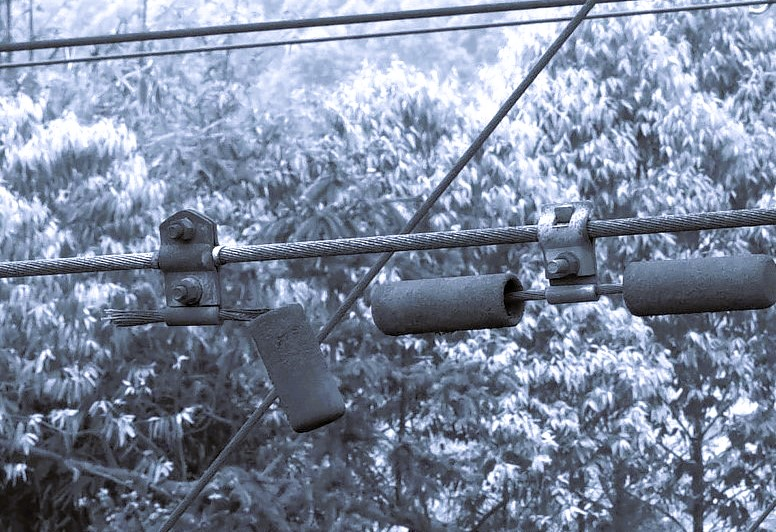Damage of shockproof hammer: (86, 203, 354, 436)
